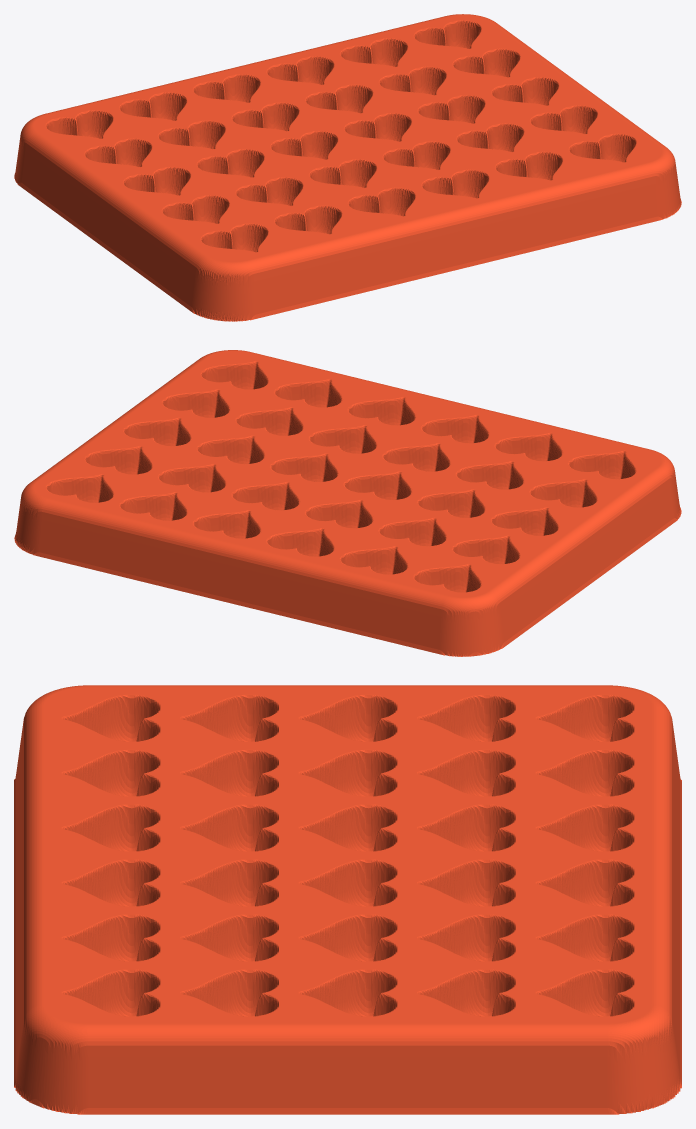
The model's file is mold.glb.
3 views of the same model, one above another, from view 1: azimuth 30°, elevation 25°; view 2: azimuth 150°, elevation 25°; view 3: azimuth 270°, elevation 25° (orthographic). The views are drawn at different scales.
Parts seen in each view (by area): view 1: geometry_0; view 2: geometry_0; view 3: geometry_0.
Boxes of the visible parts, x1,y1,x2,y2 form: geometry_0: [14, 14, 681, 321]; geometry_0: [14, 350, 681, 656]; geometry_0: [14, 685, 681, 1114].
Size of the model in its own units: 0.104 by 0.0105 by 0.0812.
